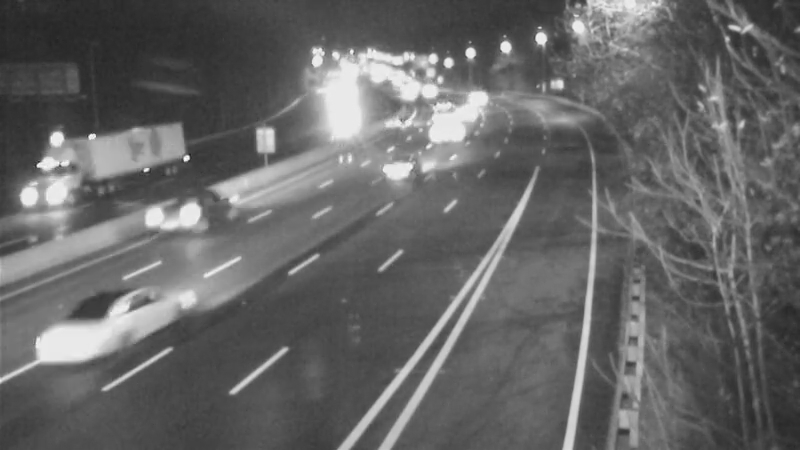vehicle: (14, 286, 124, 396), (365, 126, 445, 206), (139, 174, 219, 254), (9, 152, 89, 232), (411, 68, 461, 118), (380, 70, 430, 120), (450, 72, 500, 122), (403, 77, 453, 127), (443, 91, 493, 141), (378, 95, 428, 145), (425, 97, 475, 147)
